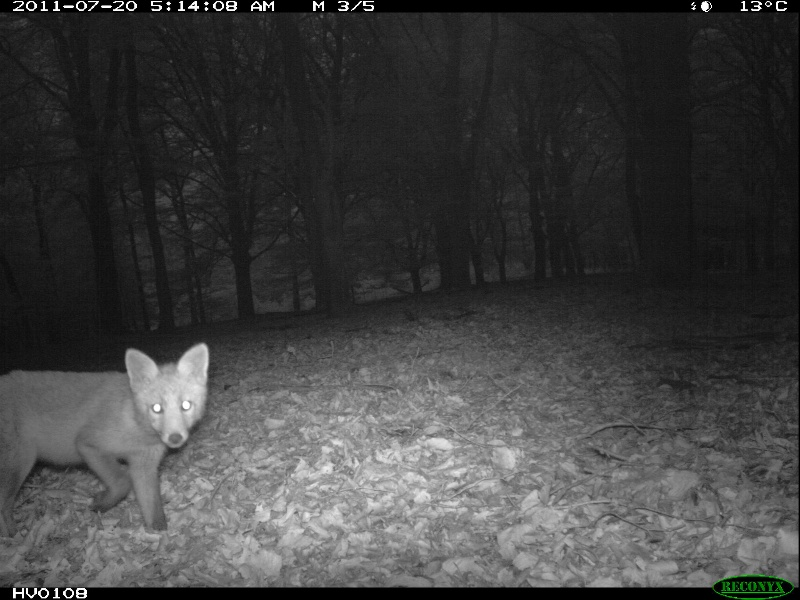fox: (1, 337, 217, 543)
